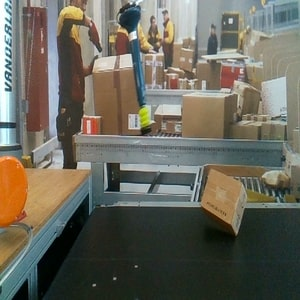box: (200, 168, 249, 236)
